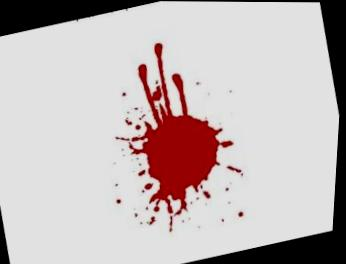Fire: (130, 42, 236, 217)
